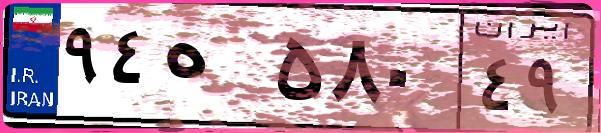0: (385, 28, 445, 110)
4: (475, 38, 525, 113), (110, 28, 158, 98)
5: (270, 28, 330, 110)
8: (330, 28, 385, 110)
9: (57, 26, 110, 100), (525, 38, 570, 115)
ه: (158, 20, 270, 120)
